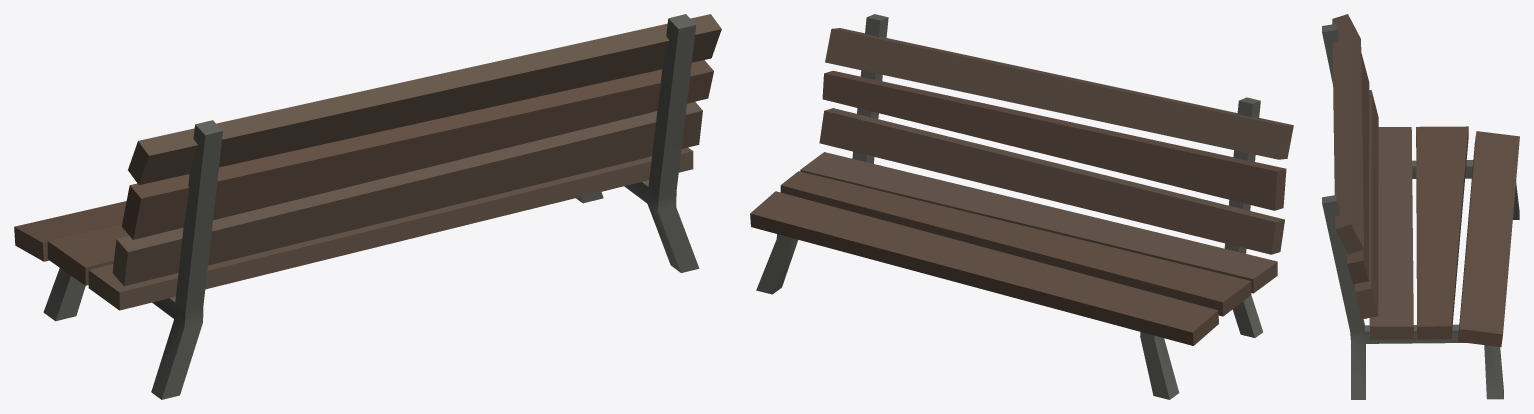
File: bench.fbx
3 views of the same model, side by side, from view 1: azimuth 30°, elevation 25°; view 2: azimuth 150°, elevation 25°; view 3: azimuth 270°, elevation 25° (orthographic). The views are drawn at different scales.
Parts seen in each view (by area): view 1: pCube23, pCube22, pCube21, pCube20, pCube24, pCube25, pCube15, pCube14; view 2: pCube15, pCube21, pCube23, pCube22, pCube14, pCube20, pCube24, pCube25; view 3: pCube15, pCube14, pCube20, pCube22, pCube25, pCube21, pCube23, pCube24.
Boxes of the visible parts, x1,y1,x2,y2 form: pCube23: [121, 60, 713, 239]; pCube22: [128, 14, 721, 184]; pCube21: [112, 102, 702, 286]; pCube20: [88, 147, 693, 310]; pCube24: [43, 120, 222, 399]; pCube25: [576, 14, 699, 272]; pCube15: [14, 201, 126, 261]; pCube14: [47, 224, 128, 285]; pCube15: [750, 191, 1218, 345]; pCube21: [819, 108, 1284, 254]; pCube23: [822, 70, 1286, 210]; pCube22: [825, 28, 1293, 159]; pCube14: [780, 171, 1251, 316]; pCube20: [800, 152, 1277, 293]; pCube24: [1140, 97, 1262, 399]; pCube25: [756, 14, 888, 294]; pCube15: [1458, 131, 1519, 346]; pCube14: [1416, 126, 1468, 339]; pCube20: [1369, 127, 1413, 339]; pCube22: [1332, 14, 1363, 254]; pCube25: [1322, 195, 1503, 399]; pCube21: [1355, 90, 1378, 319]; pCube23: [1347, 53, 1369, 284]; pCube24: [1322, 23, 1519, 219].
Bounding box in the file's own units: 19.9 × 9.07 × 8.24.
